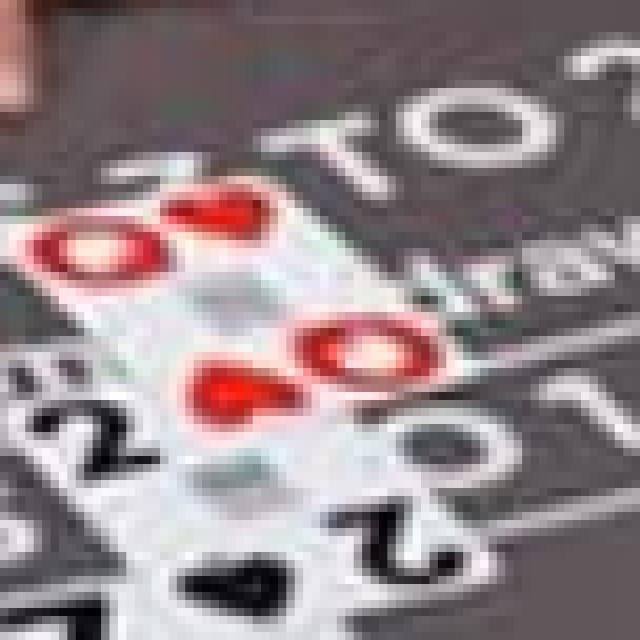Card-2: (0, 331, 503, 640)
Card-Q: (0, 166, 479, 455)
